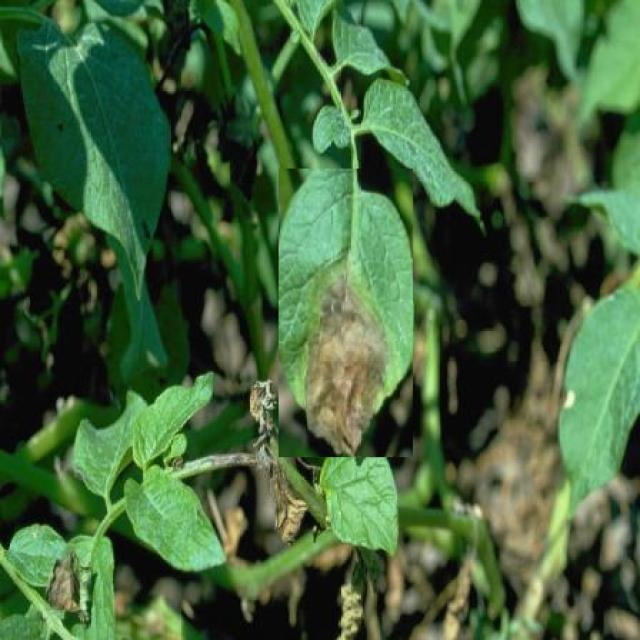Late Blight: (278, 169, 413, 457)
